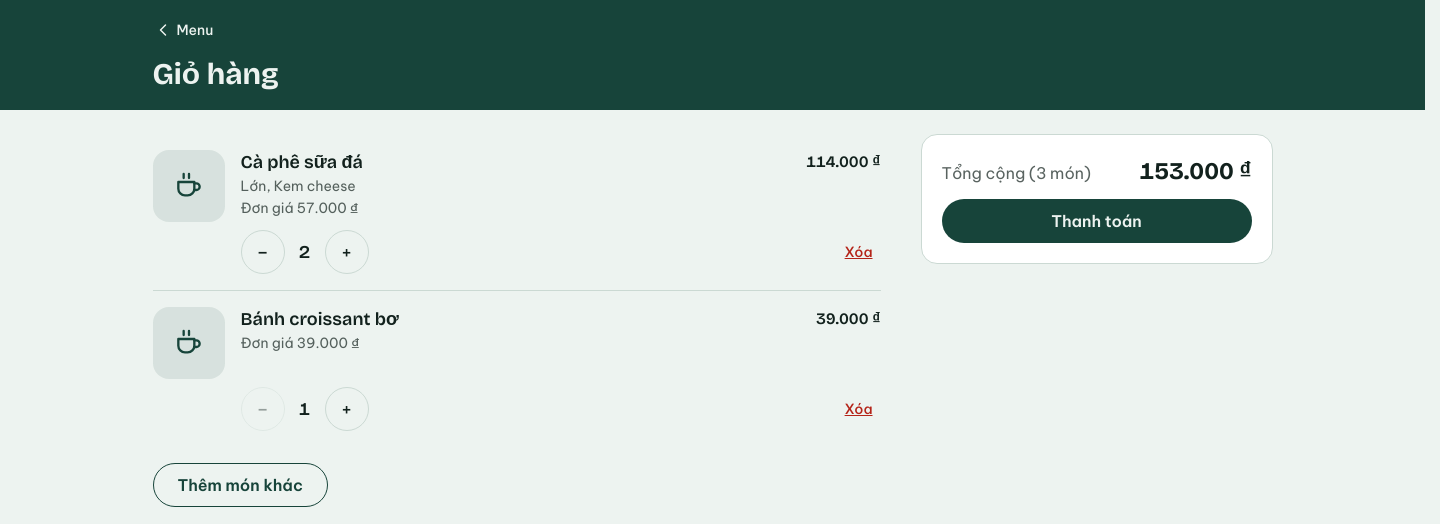
it: CartScreen › cập nhật tổng tiền khi tăng giảm số lượng
Click the button named "Tăng số lượng Bánh croissant bơ".
click(346, 408)  # box top-left (324, 386), bottom-right (368, 430)
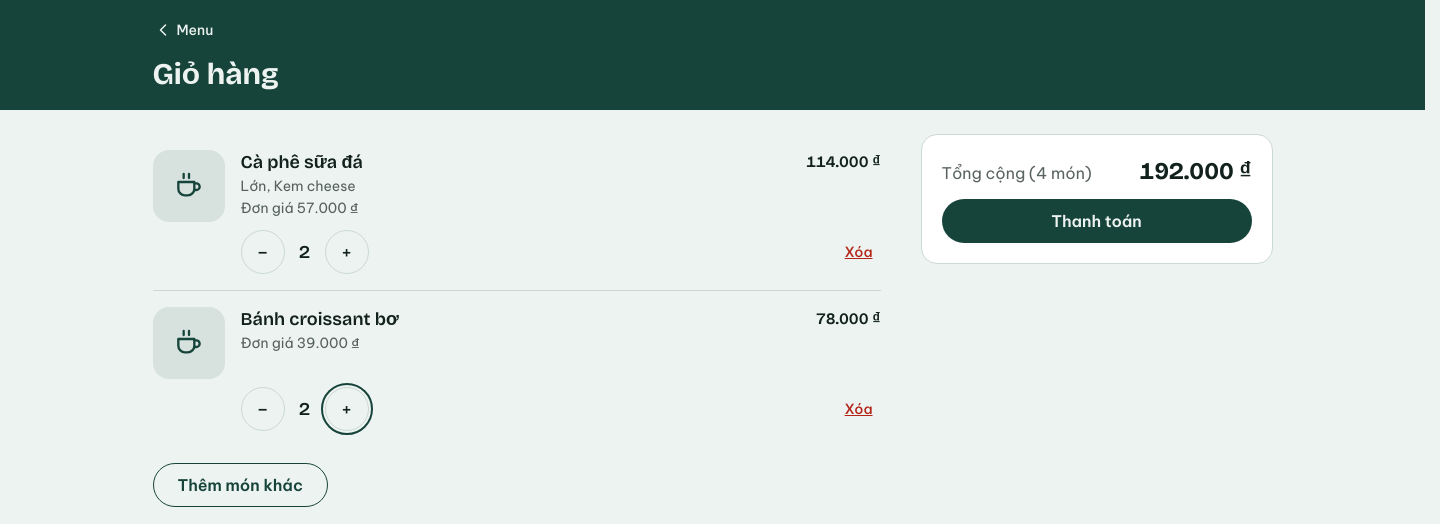
Expected: the text "192.000 ₫" is shown, top-left (1140, 154), bottom-right (1252, 186)
Click the button named "Giảm số lượng Cà phê sữa đá".
click(262, 252)  # box top-left (240, 230), bottom-right (284, 274)
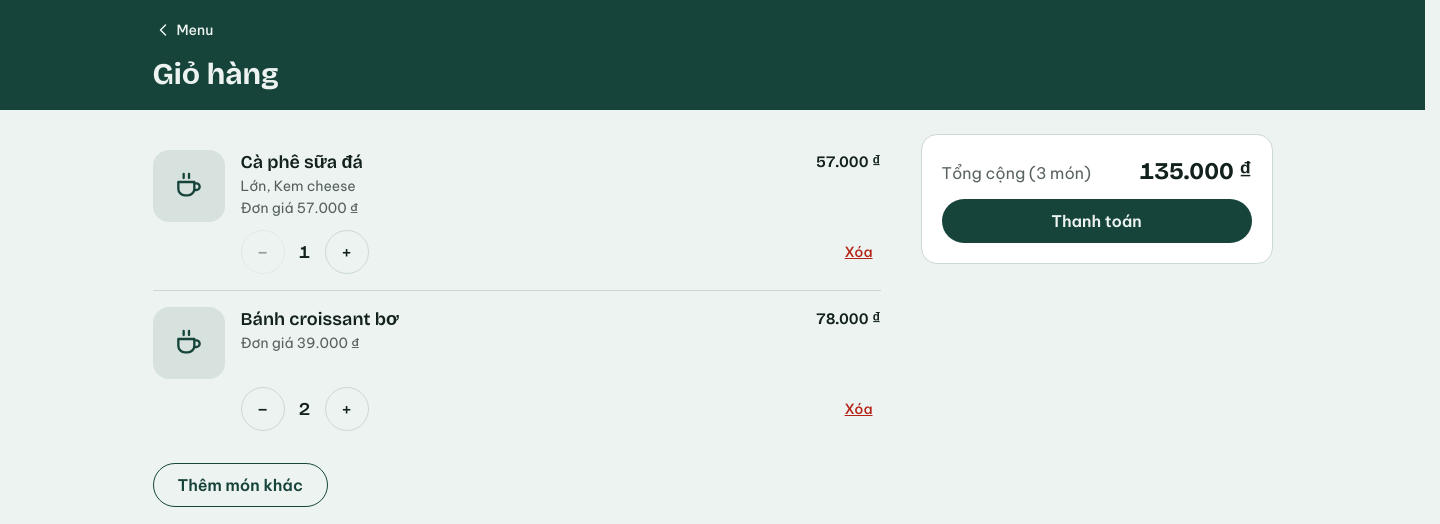
Expected: the text "135.000 ₫" is shown, top-left (1140, 154), bottom-right (1252, 186)
